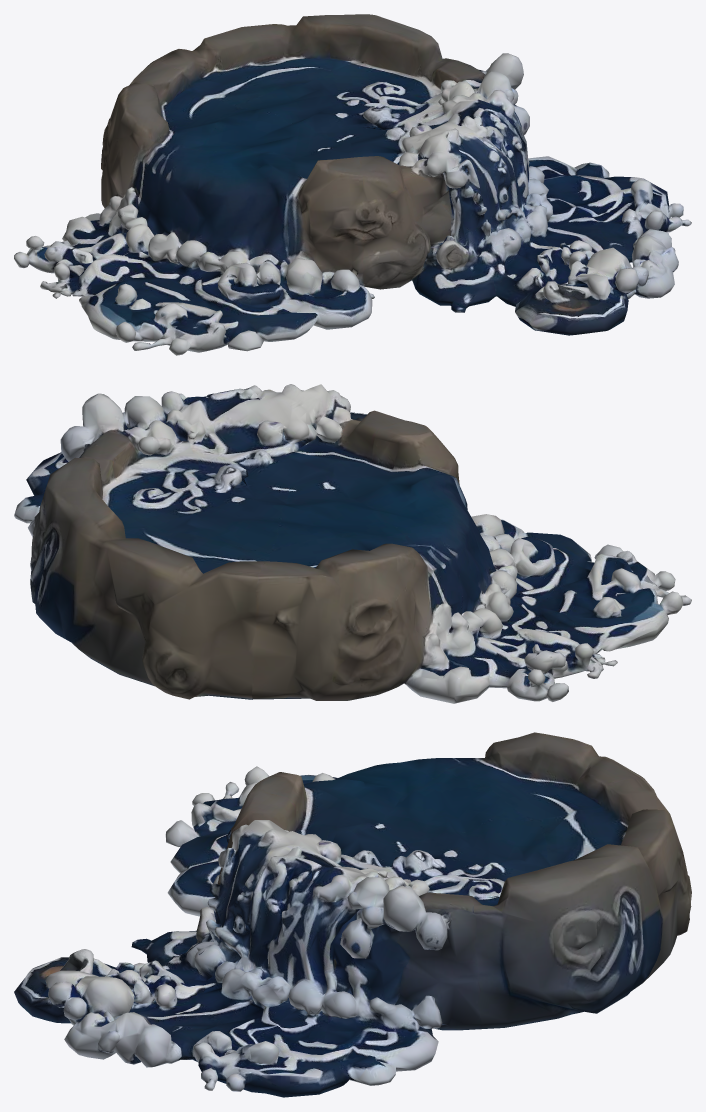
File: water_restrain_t3.glb
3 views of the same model, one above another, from view 1: azimuth 30°, elevation 25°; view 2: azimuth 150°, elevation 25°; view 3: azimuth 270°, elevation 25° (orthographic). The views are drawn at different scales.
Visible parts, largest first — view 1: tripo_node_0c5a37da-dcec-496f-9c76-564887a006ad; view 2: tripo_node_0c5a37da-dcec-496f-9c76-564887a006ad; view 3: tripo_node_0c5a37da-dcec-496f-9c76-564887a006ad.
Part boxes in pixels (<box>): tripo_node_0c5a37da-dcec-496f-9c76-564887a006ad: <box>14,14,691,355</box>; tripo_node_0c5a37da-dcec-496f-9c76-564887a006ad: <box>14,384,691,703</box>; tripo_node_0c5a37da-dcec-496f-9c76-564887a006ad: <box>14,732,691,1097</box>.
Bounding box in the file's own units: 0.9998 × 0.2425 × 0.9182.
Materials: 1 (1 with a texture image).
